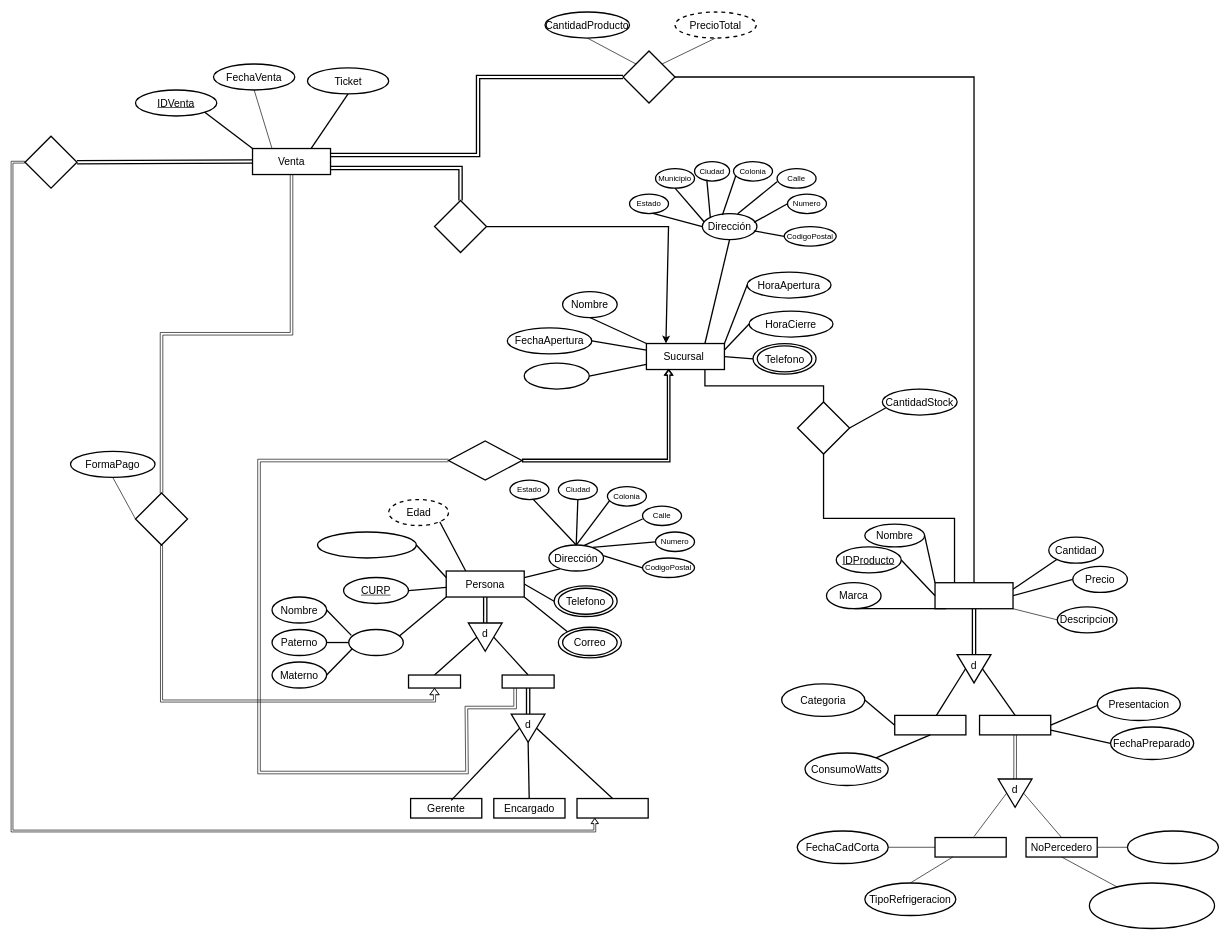
The diagram is 1230 pixels wide and 940 high, and some of its shapes have lost their labels. The centre of each missing label's shape, as x and y in pixels:
"Abarrotes" belongs at (x=1015, y=724).
"Atender" belongs at (x=50, y=161).
"Cajero" belongs at (x=612, y=808).
"Cliente" belongs at (x=434, y=681).
"Comprar" belongs at (x=161, y=518).
"CondicionAlmacenamiento" belongs at (x=1151, y=905).
"Electronica" belongs at (x=930, y=724).
"Empleado" belongs at (x=527, y=681).
"FechaCadLarga" belongs at (x=1172, y=847).
"FechaNacimiento" belongs at (x=367, y=544).
"IDSucursal" belongs at (x=556, y=375).
"NombreC" belongs at (x=376, y=642).
"Percedero" belongs at (x=970, y=847).
"Poseer" belongs at (x=823, y=427).
"Producto" belongs at (x=973, y=595).
"Realizar" belongs at (x=460, y=226).
"Trabajar" belongs at (x=485, y=460).
"Vender" belongs at (x=648, y=76).
